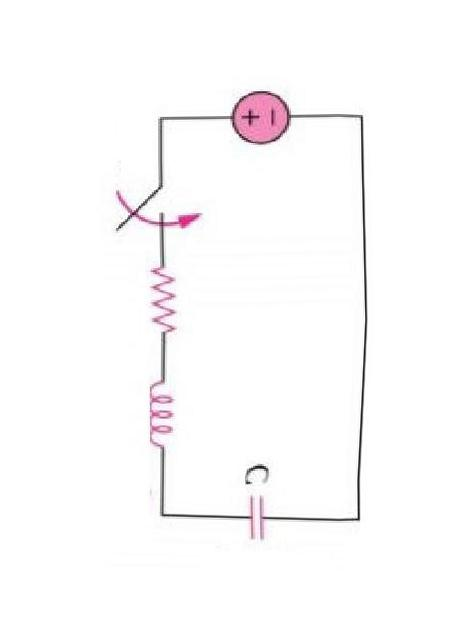Battery: (205, 71, 314, 165)
